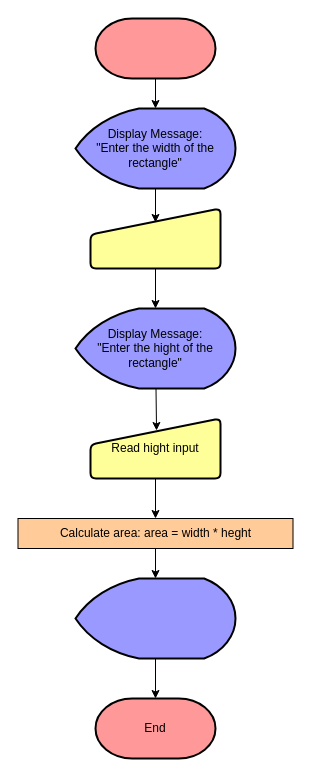
Some shapes in this 310 by 776 pixel diagram are drawn without their labels. The shapes that lost their labels are listed below. From the top down, each one's centre as x and y in pixels, then its label:
the point at 155,48: Start
the point at 155,238: Read width input
the point at 155,618: Display Message: "The area of the rectangle is" , area
